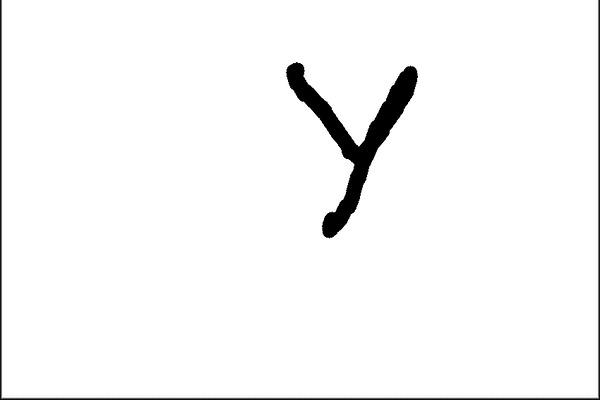Y: (280, 49, 422, 246)
